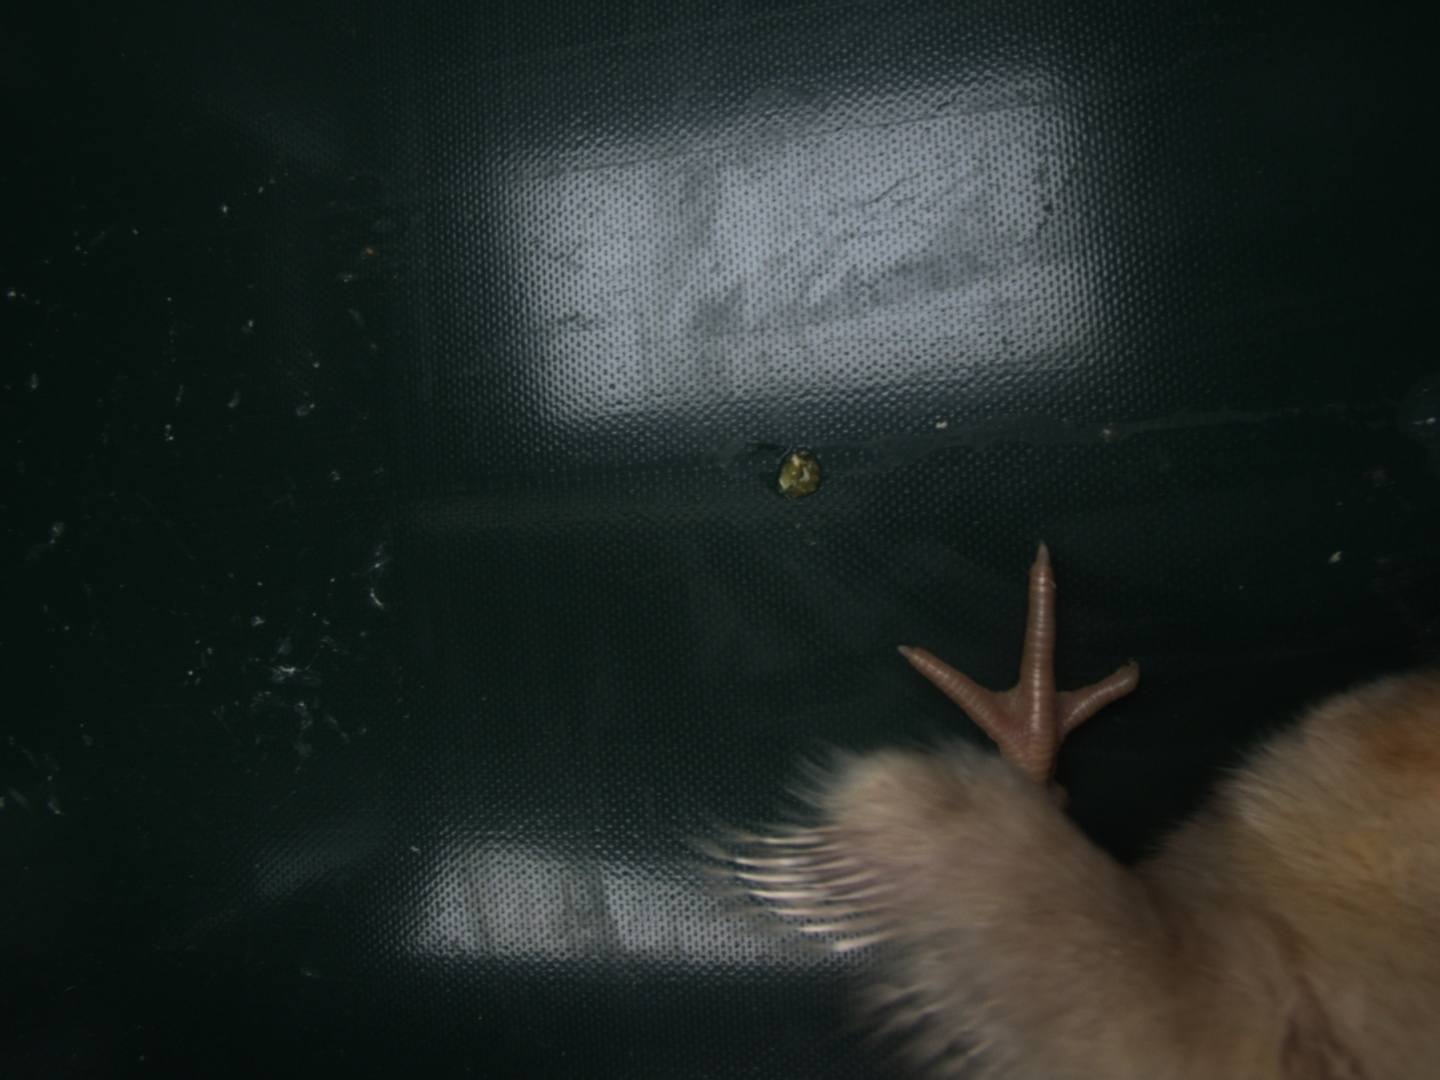female: (703, 813, 913, 962)
